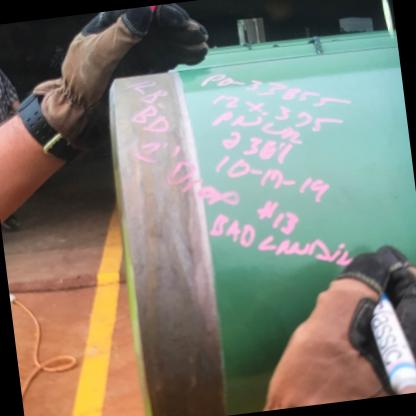Bevel: (176, 194, 216, 338)
